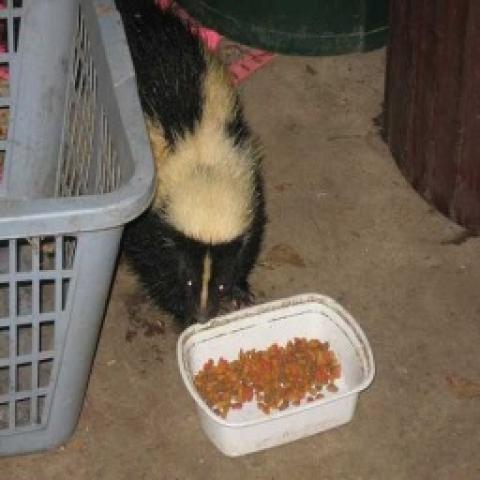small_animal: (96, 0, 260, 326)
